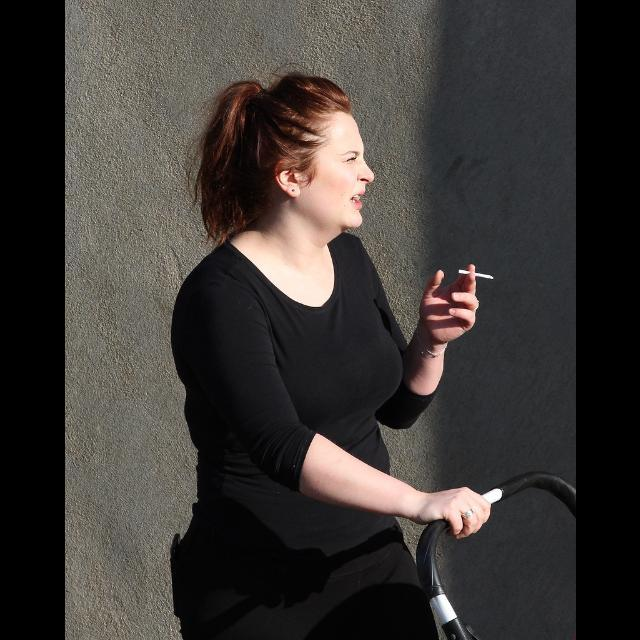rokok: (460, 268, 496, 284)
